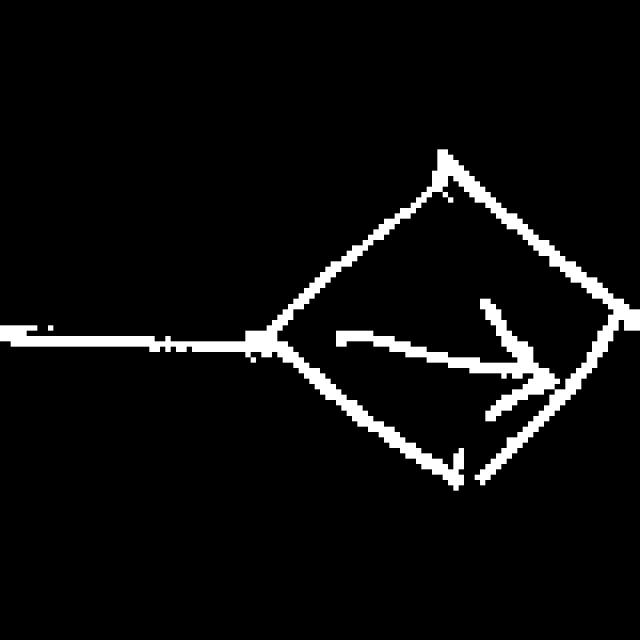dependant_current: (246, 150, 637, 496)
